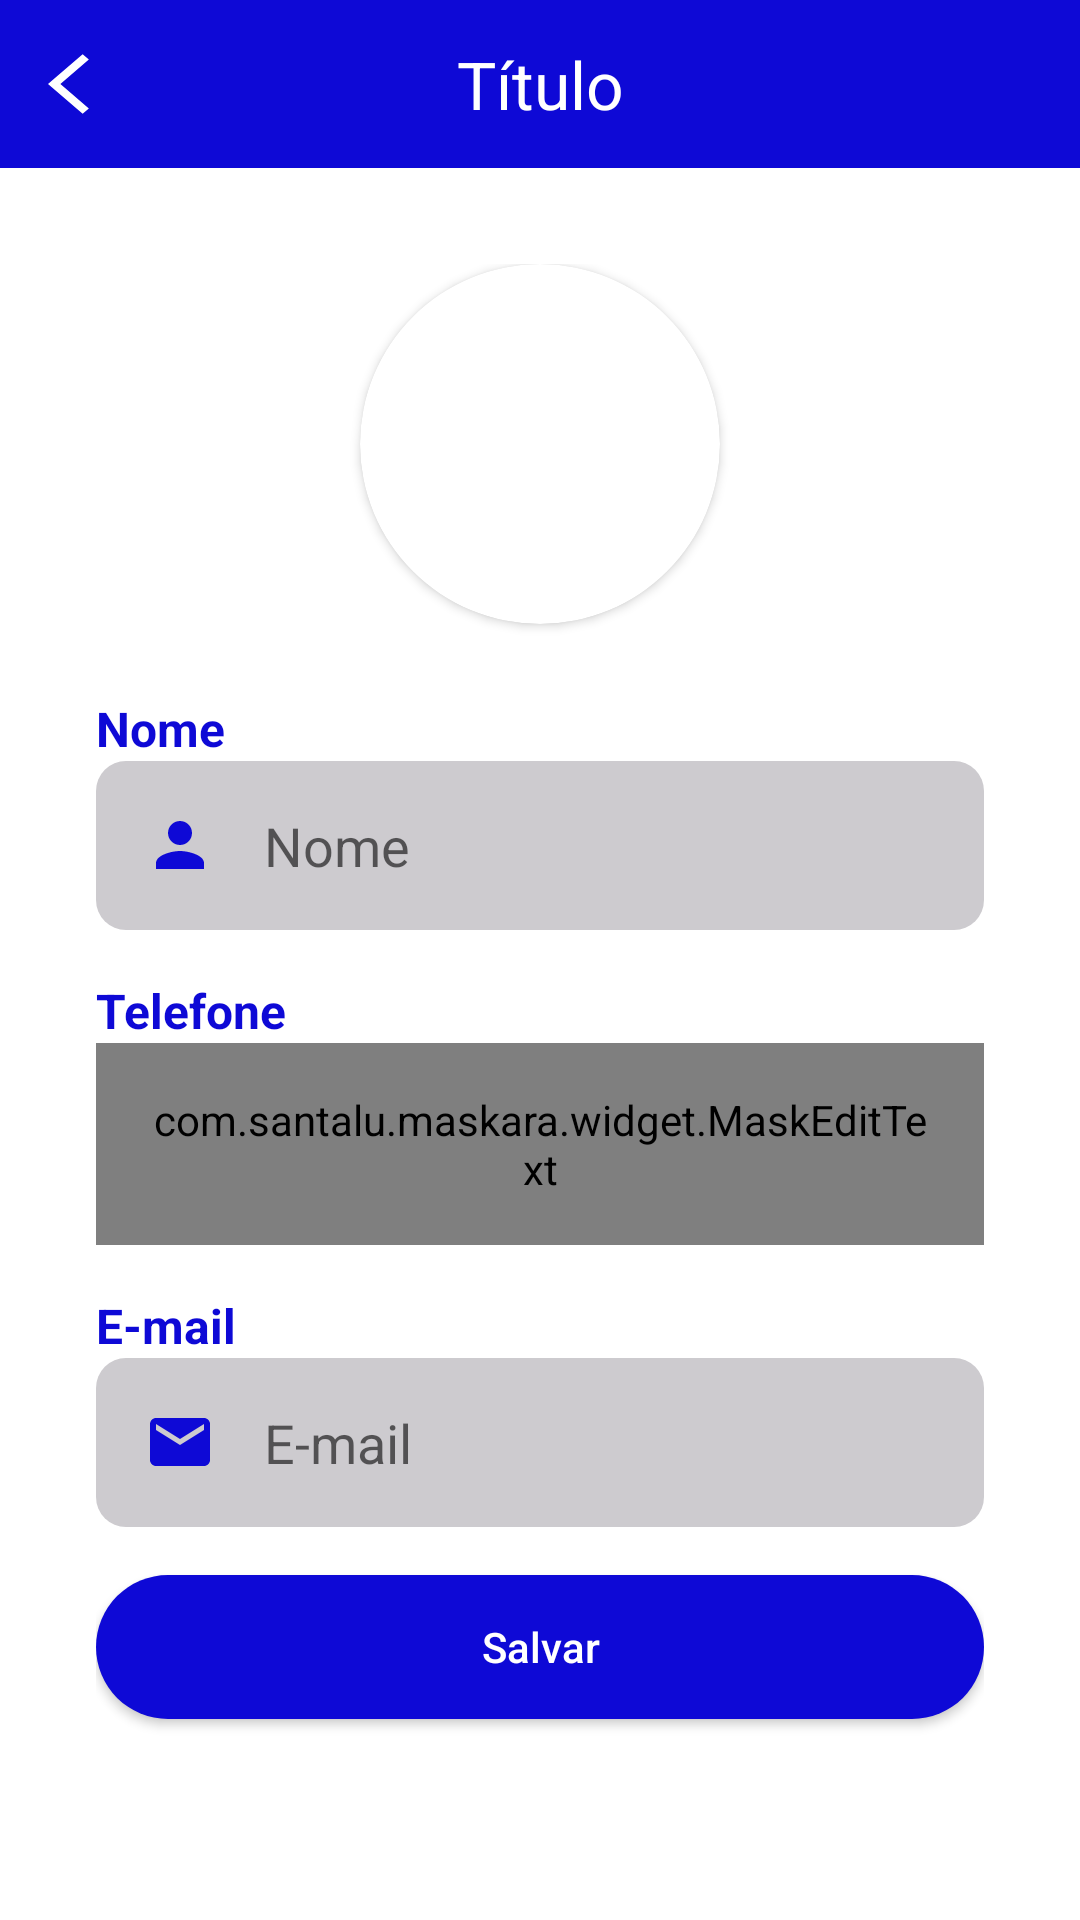

Icons on this 1080 x 1920 Android screen, each with its box as {"x1": x1, "y1": y1, "x2": x2, "y2": y2}:
voltar: {"x1": 48, "y1": 54, "x2": 89, "y2": 114}
